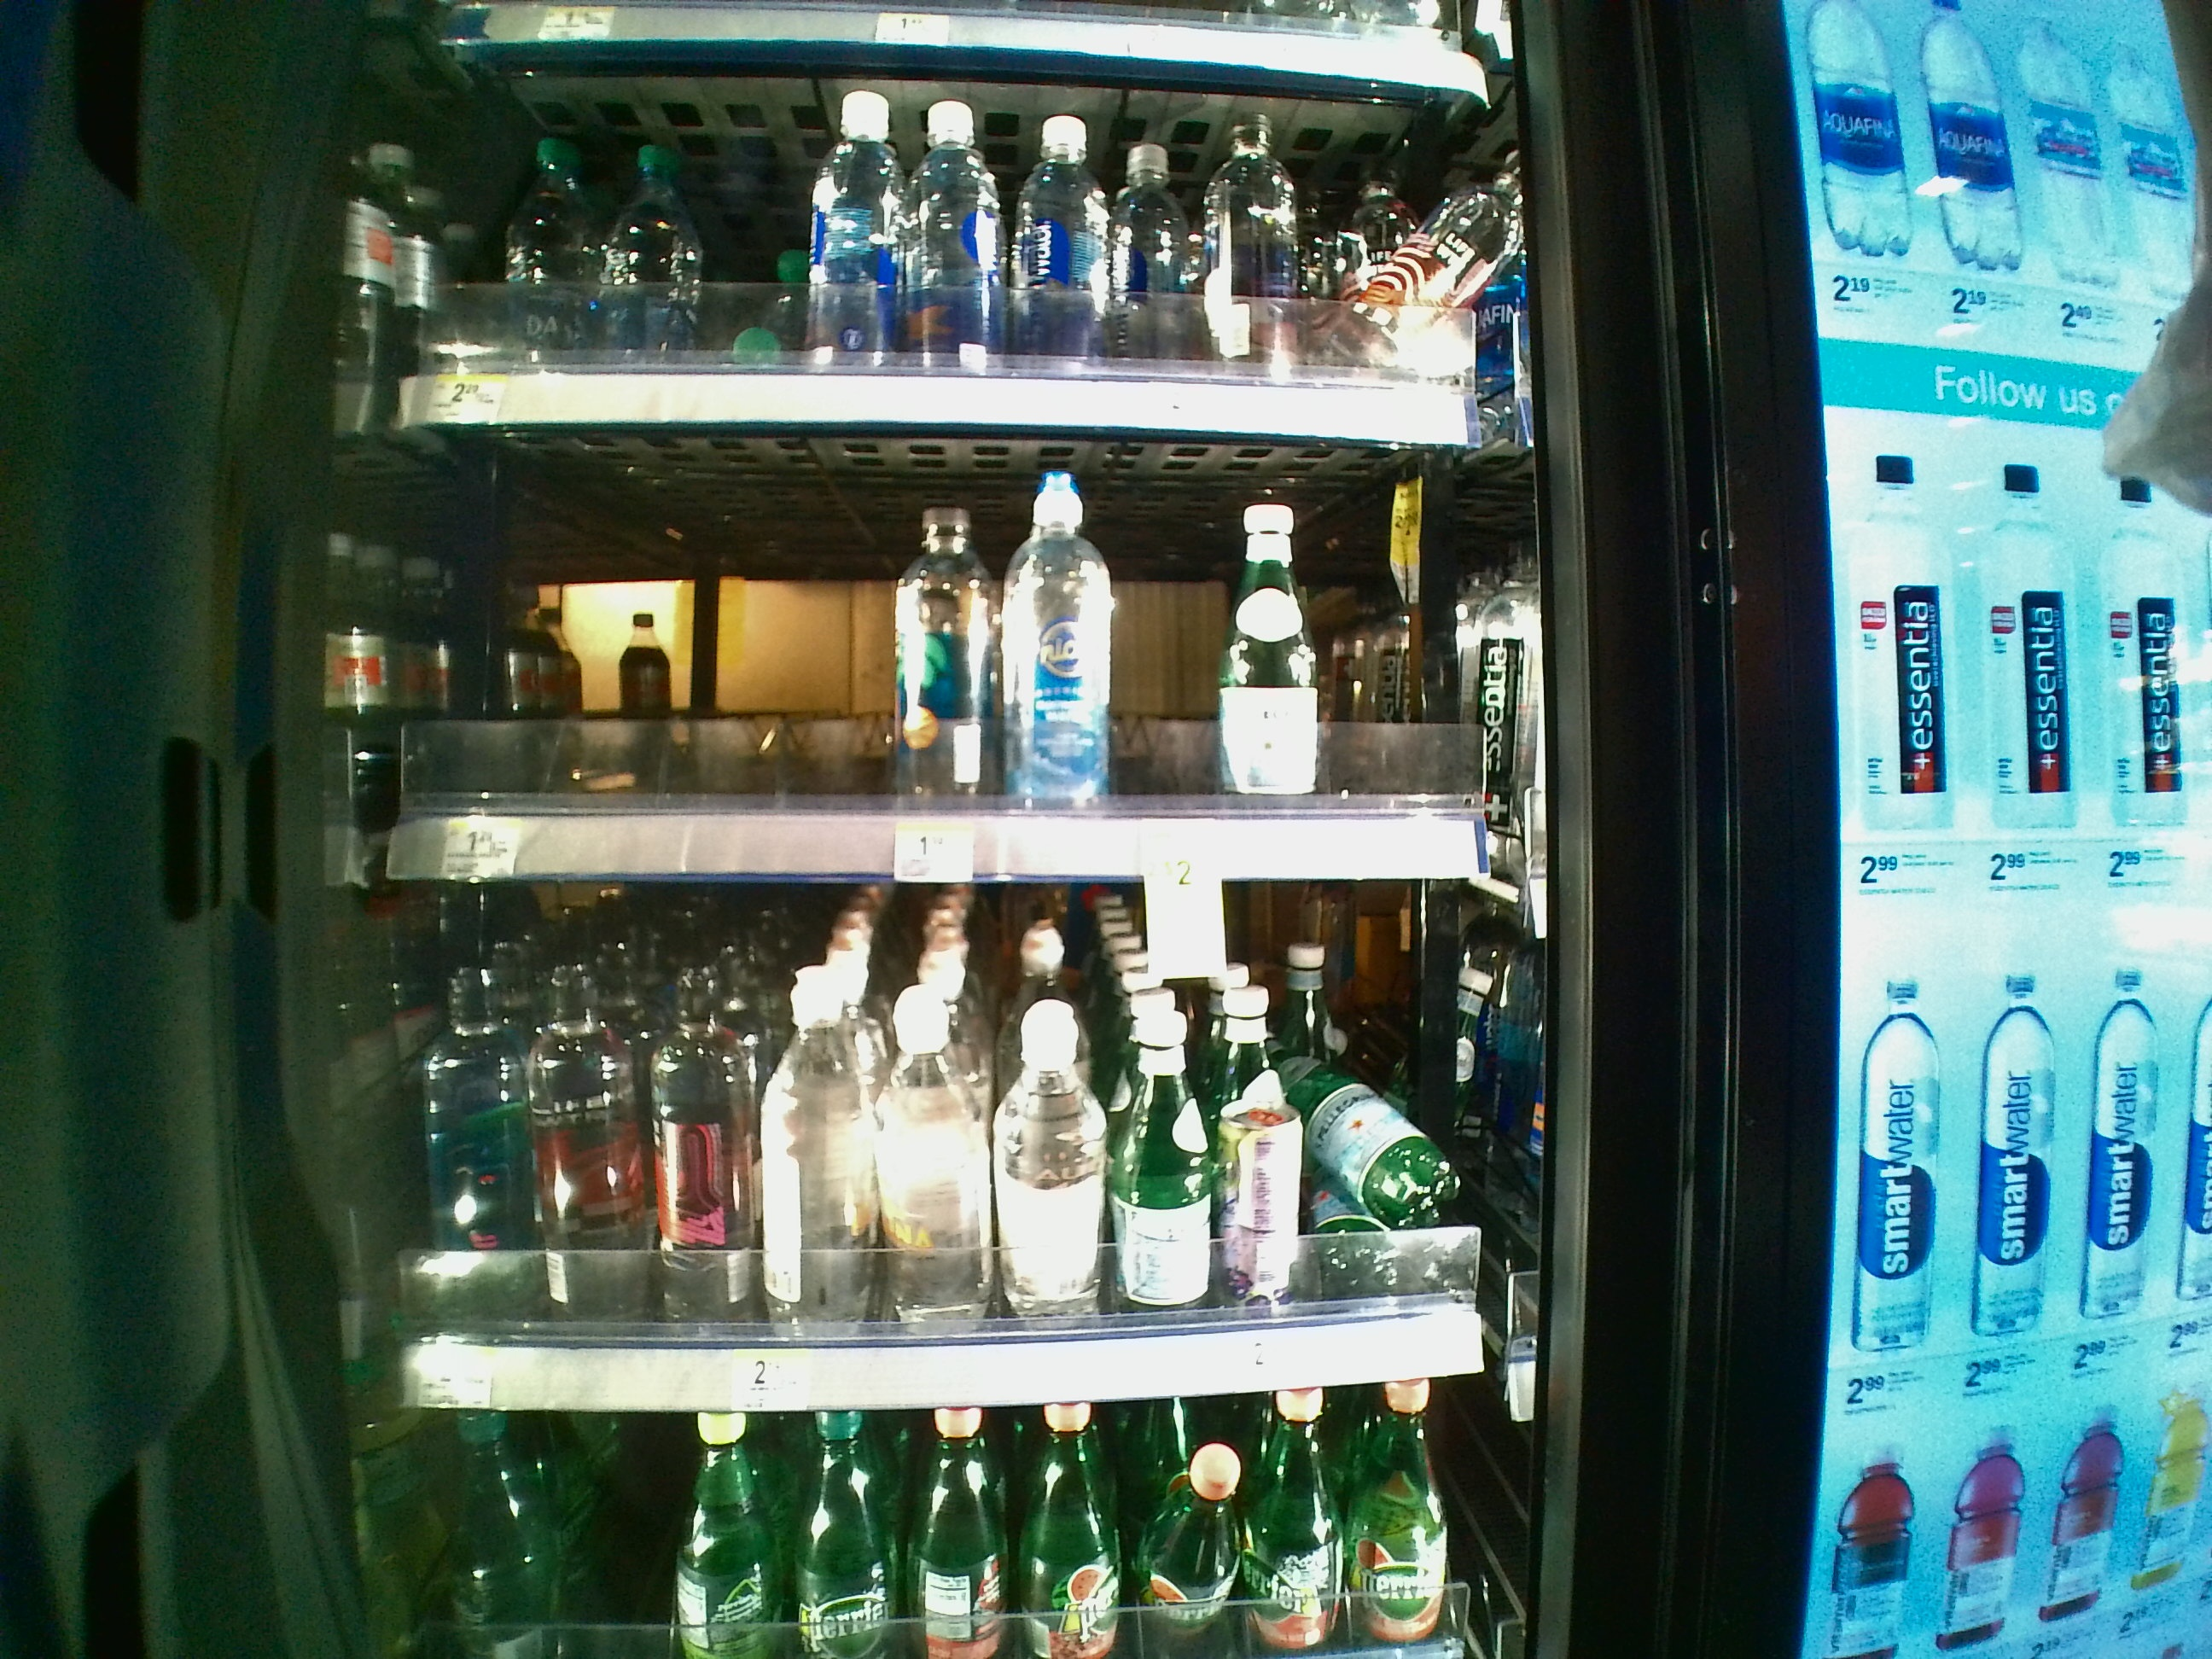Shelf: (296, 878, 1543, 1417), (298, 427, 1501, 882)
